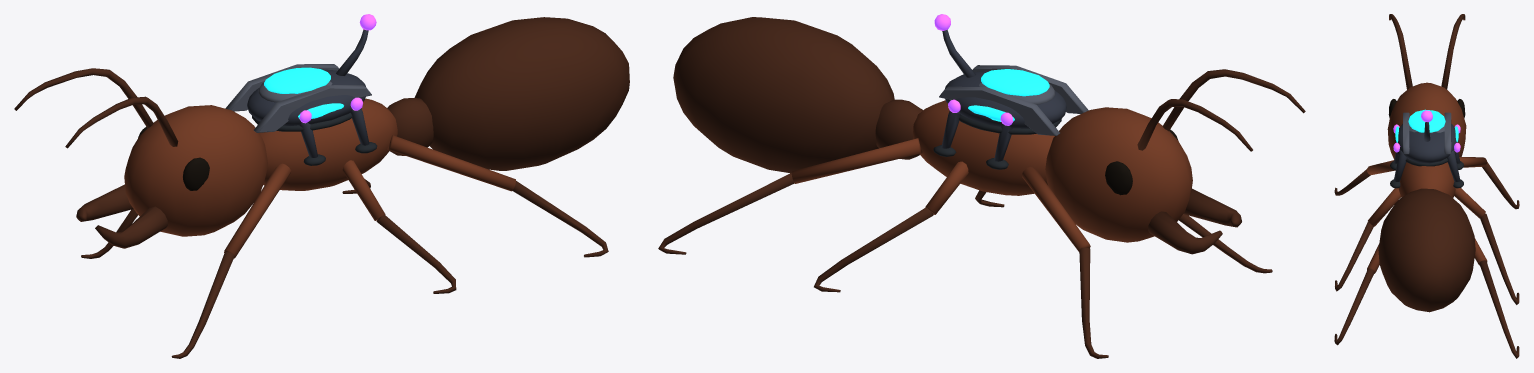
The model's file is controlled_ant_lite.glb.
3 renders of one model, left to right at view 1: azimuth 30°, elevation 25°; view 2: azimuth 150°, elevation 25°; view 3: azimuth 270°, elevation 25°, orthographic. The views are drawn at different scales.
Parts seen in each view (by area): view 1: NaturalFaunaLiteMesh, AlienControlDeviceLiteMesh; view 2: NaturalFaunaLiteMesh, AlienControlDeviceLiteMesh; view 3: NaturalFaunaLiteMesh, AlienControlDeviceLiteMesh.
Part boxes in pixels (x1,y1,x2,y2): NaturalFaunaLiteMesh: (14, 17, 629, 358); AlienControlDeviceLiteMesh: (225, 14, 377, 165); NaturalFaunaLiteMesh: (658, 17, 1305, 358); AlienControlDeviceLiteMesh: (933, 14, 1088, 169); NaturalFaunaLiteMesh: (1334, 14, 1519, 358); AlienControlDeviceLiteMesh: (1390, 109, 1463, 188).
Bounding box in the file's own units: 2.37 × 0.9203 × 0.8946.
